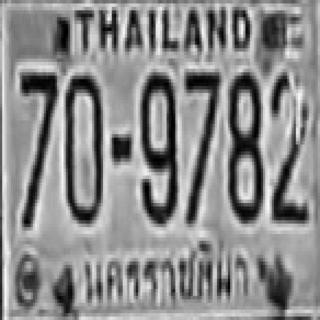N00: (64, 72, 101, 220)
N02: (268, 70, 308, 222)
N07: (19, 69, 56, 224), (184, 70, 219, 222), (20, 70, 57, 177), (184, 69, 219, 182)
N08: (226, 69, 261, 220)
N09: (138, 69, 175, 220)
P30: (78, 238, 254, 307)
